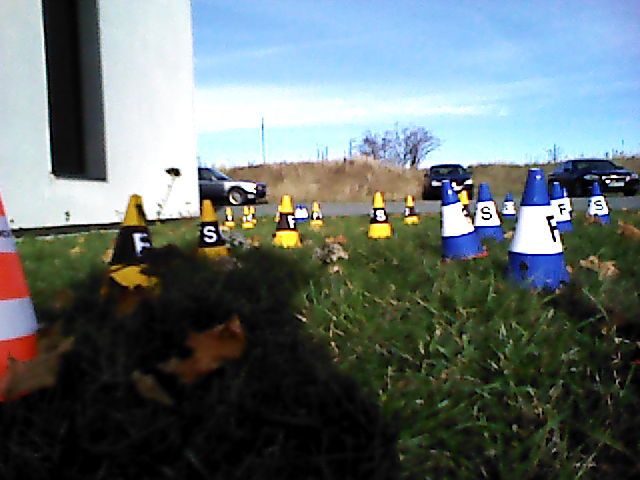bluecone: (508, 169, 568, 287), (440, 181, 481, 255), (475, 183, 505, 238), (587, 183, 613, 224), (553, 183, 573, 231)
yellowcone: (197, 200, 230, 260), (277, 195, 301, 246), (368, 193, 393, 237)
